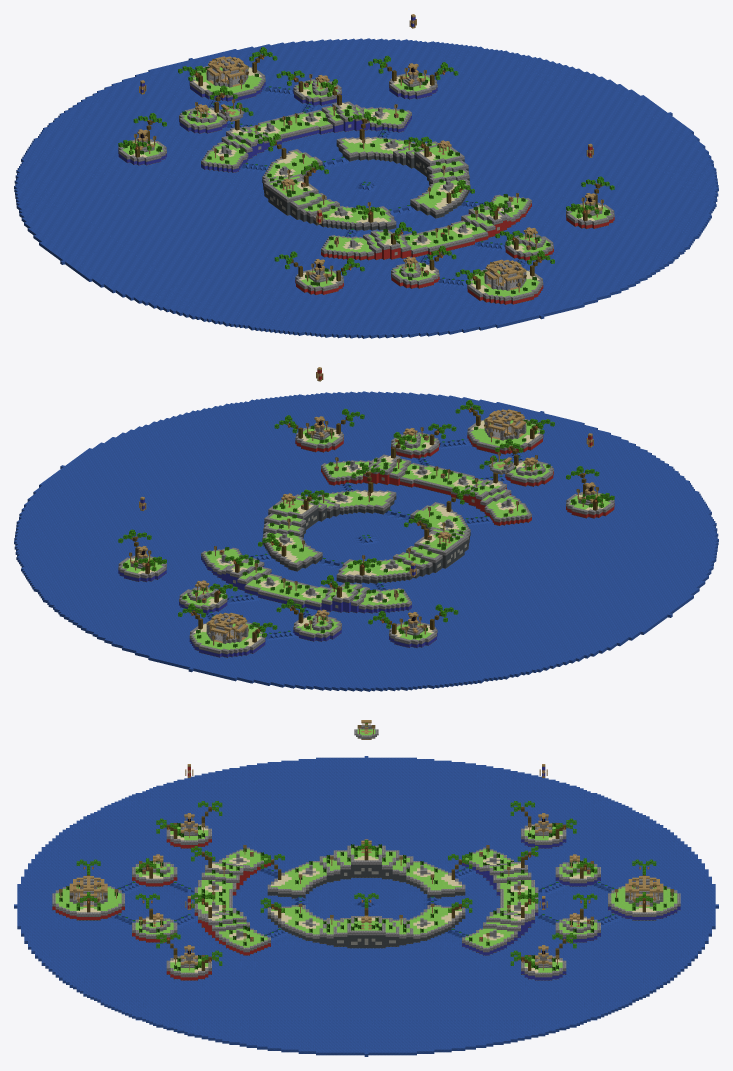
File: minecraft.obj
The picture shows the model from 3 angles, top to bottom: view 1: azimuth 30°, elevation 25°; view 2: azimuth 150°, elevation 25°; view 3: azimuth 270°, elevation 25°; orthographic projection.
Bounding box in the file's own units: 203 × 38 × 203.
